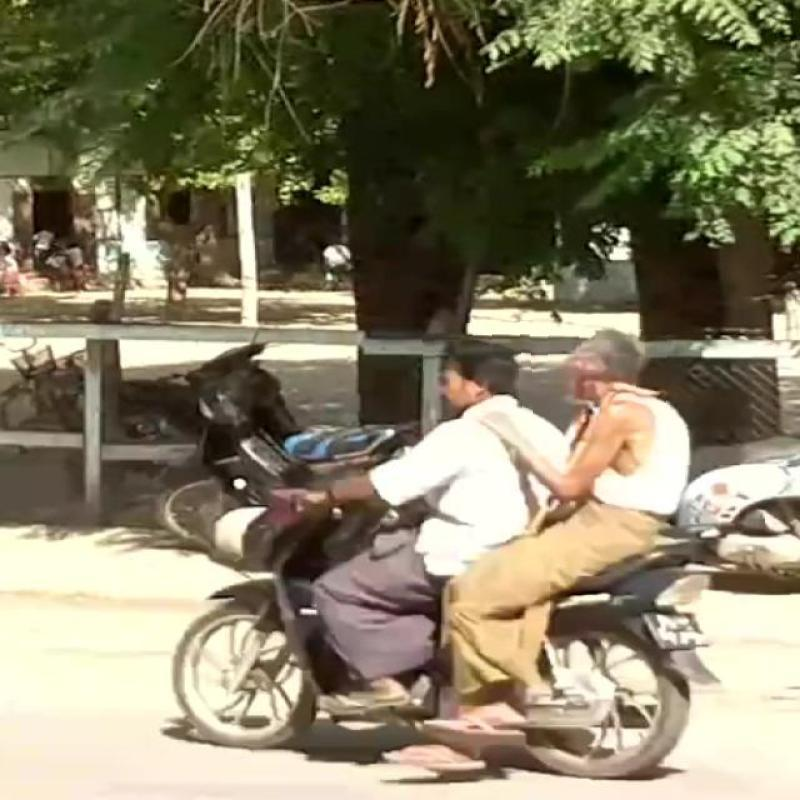nohelmet: (423, 322, 533, 419), (548, 327, 668, 403)
